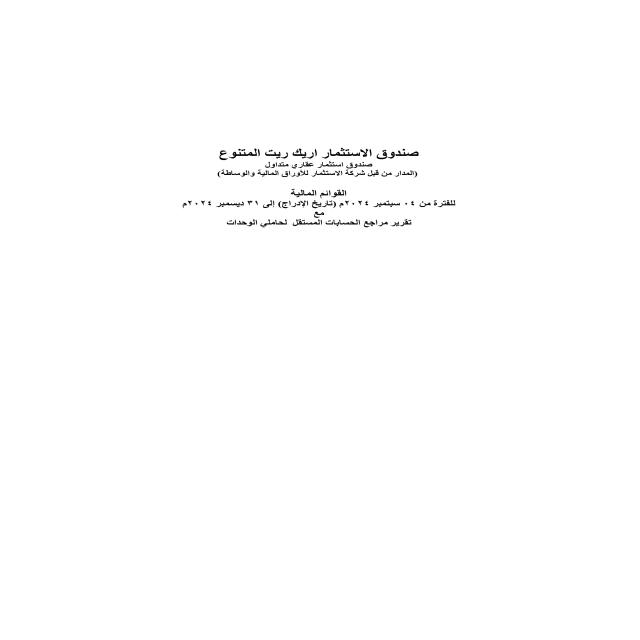other: (132, 59, 514, 318)
